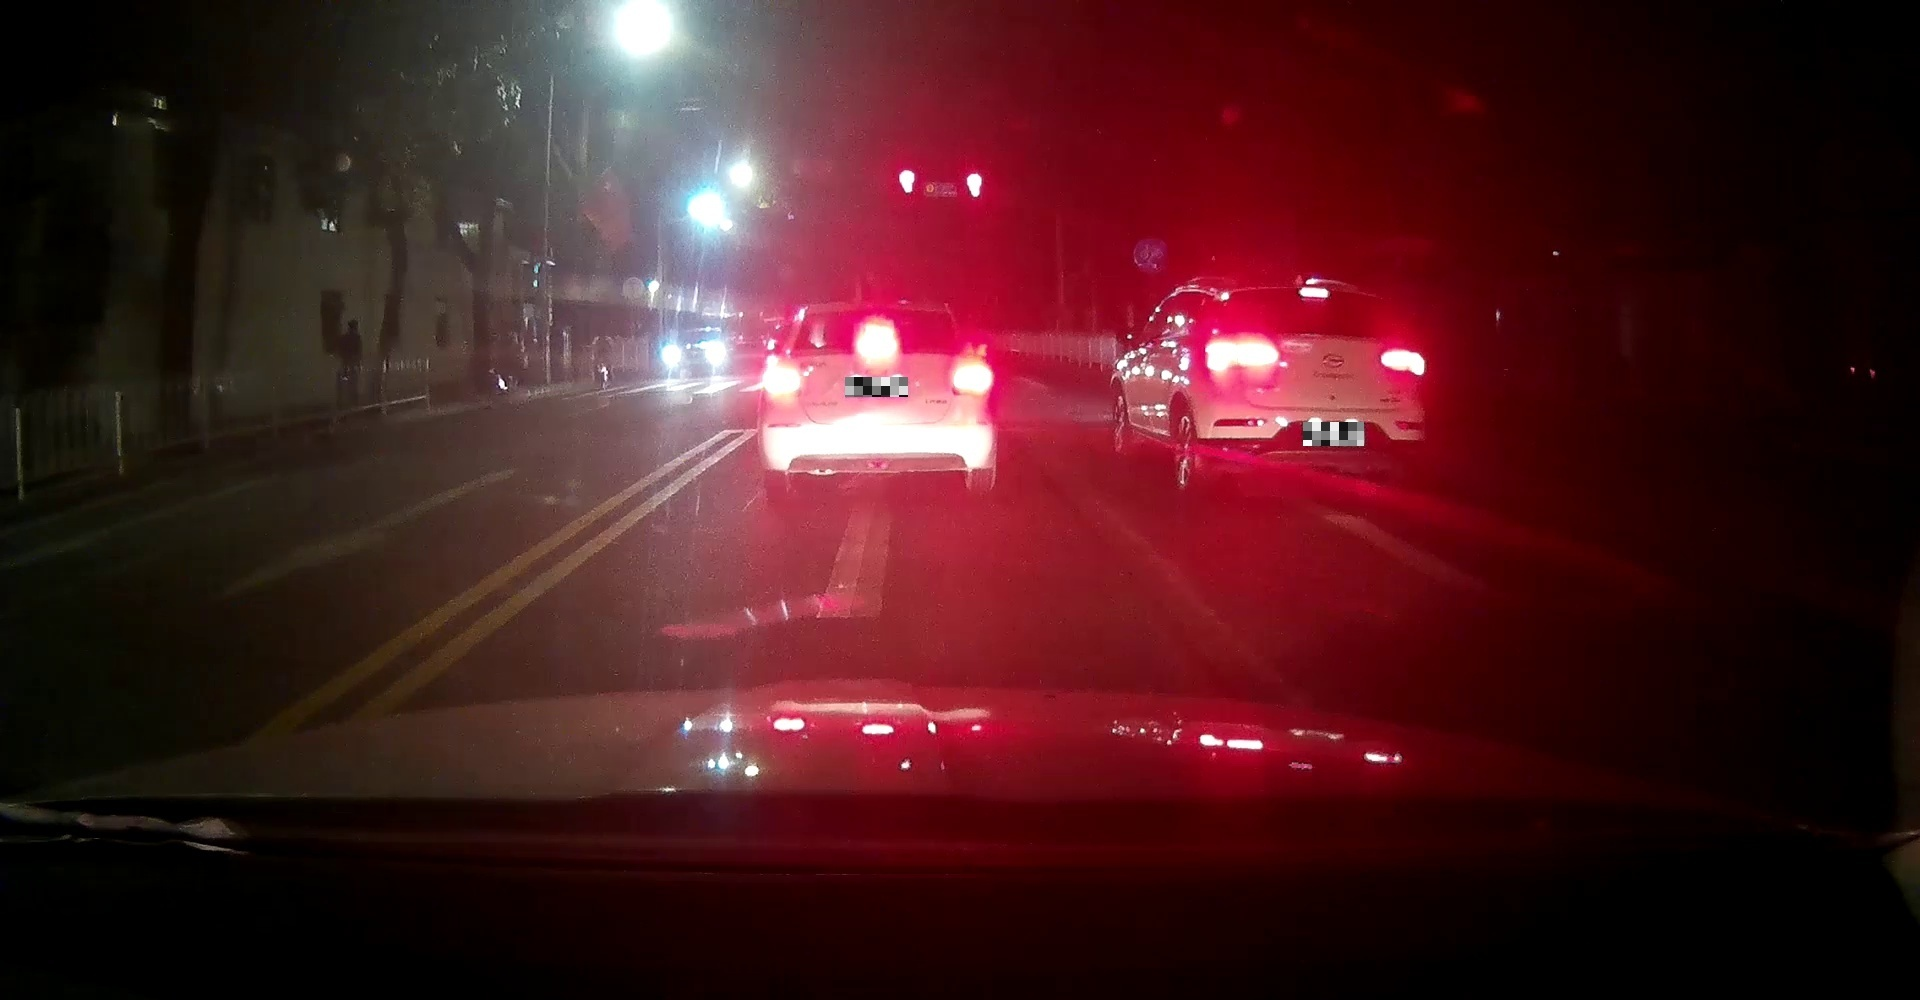L_light: (1203, 334, 1280, 371), (762, 360, 803, 395)
R_light: (1380, 346, 1425, 376), (952, 363, 990, 392)
T_light: (855, 338, 897, 353), (1298, 286, 1330, 298)
night-brake: (1197, 277, 1427, 497), (757, 298, 993, 501)
plate_1: (844, 377, 908, 397)
plate_2: (1303, 423, 1364, 445)
